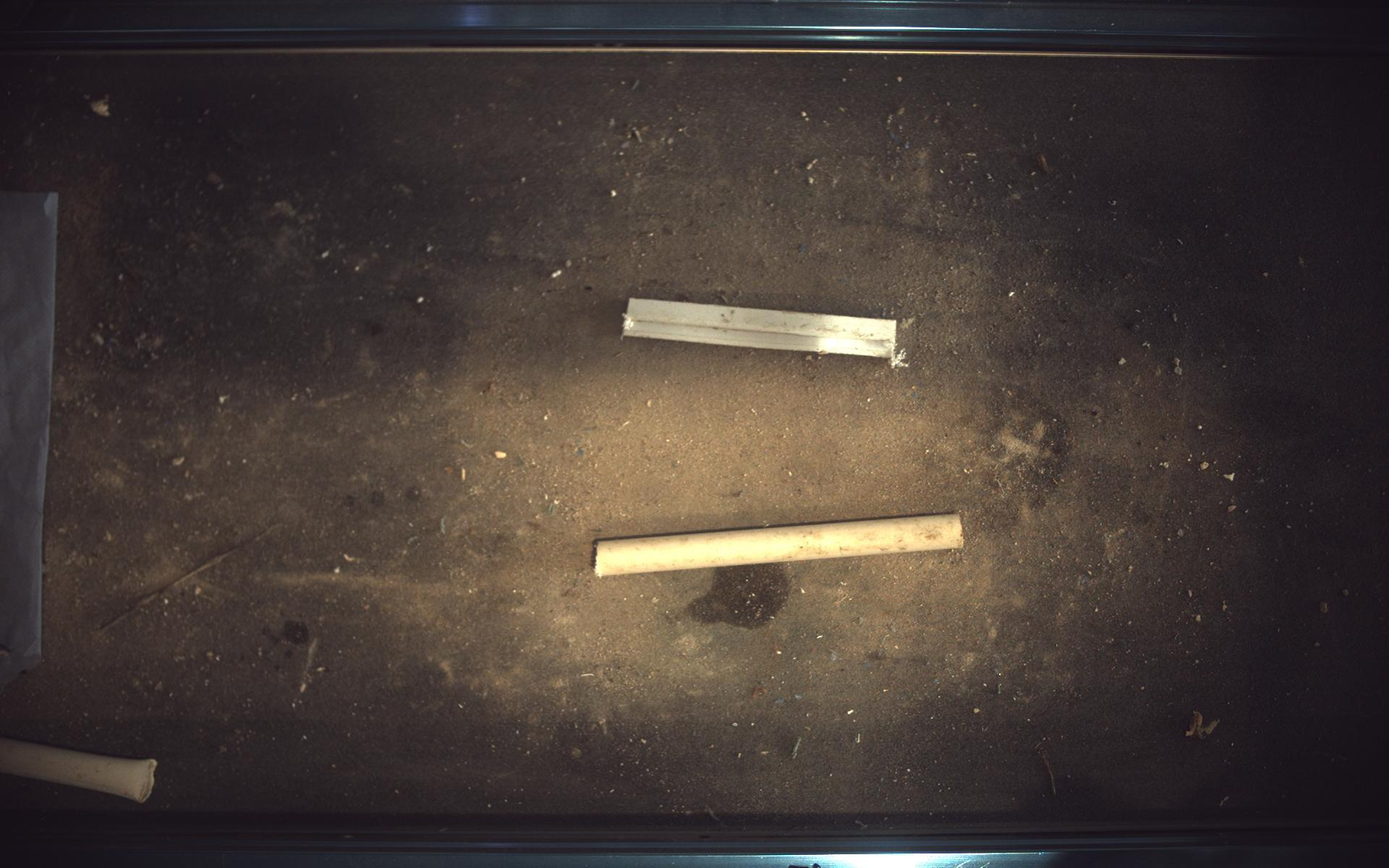pipes: (595, 514, 966, 577)
plastic: (624, 297, 906, 366)
